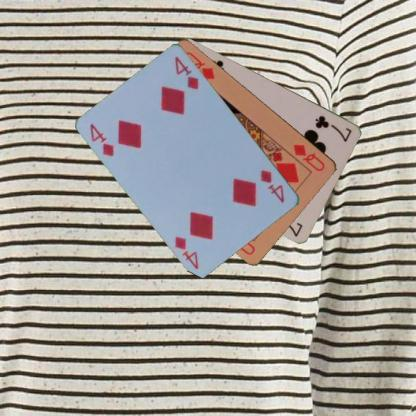4d: (87, 121, 117, 158), (257, 167, 286, 205)
7c: (312, 112, 354, 143)
Qd: (290, 140, 326, 173)
